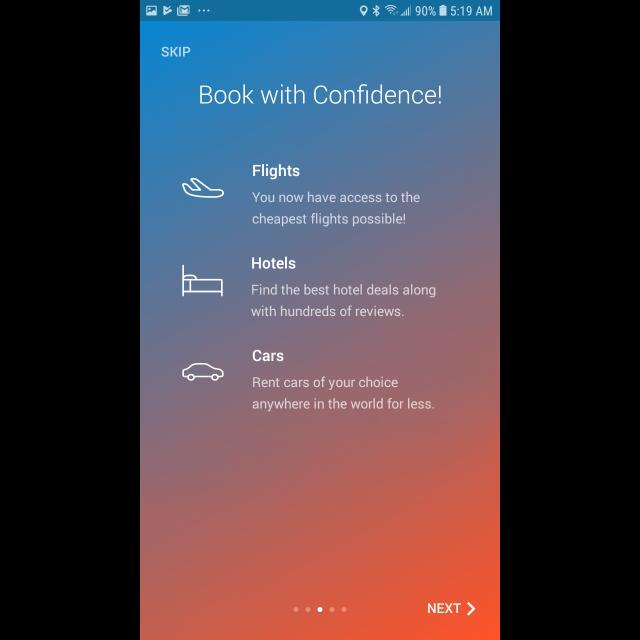icon: (466, 602, 476, 616)
image: (182, 265, 224, 297), (182, 178, 225, 198), (182, 363, 224, 381)
pageindicator: (294, 607, 346, 613)
text: (253, 376, 435, 412), (252, 284, 436, 316), (252, 192, 420, 226), (200, 84, 442, 105), (252, 164, 300, 180), (252, 256, 296, 270), (427, 602, 461, 614), (252, 350, 284, 362), (162, 46, 190, 58)
uppertaskbar: (140, 1, 500, 22)
